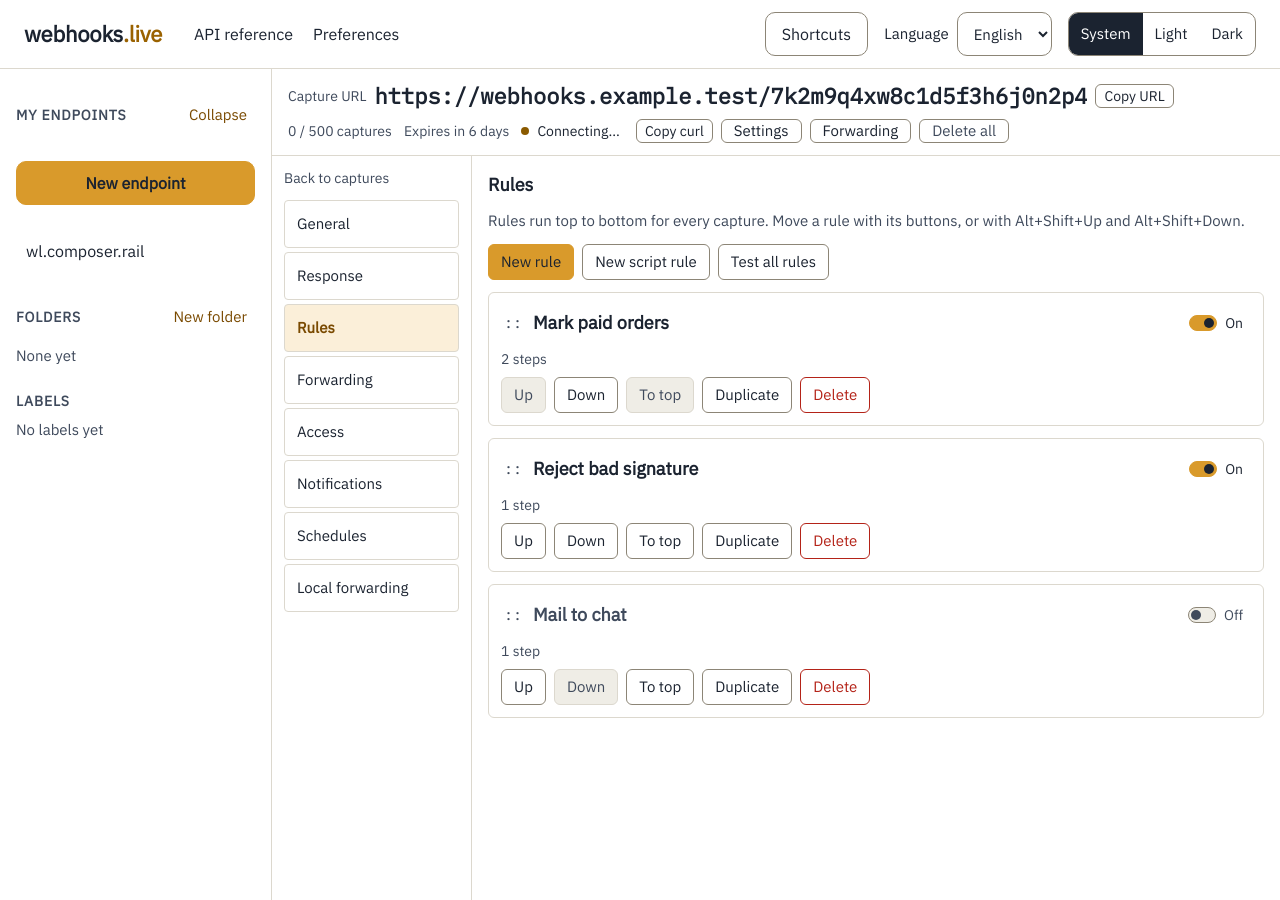
Test: rules section › opens a blank draft in the editor route
Click the link "New rule" at (531, 262), box left=488, top=244, right=574, bottom=280
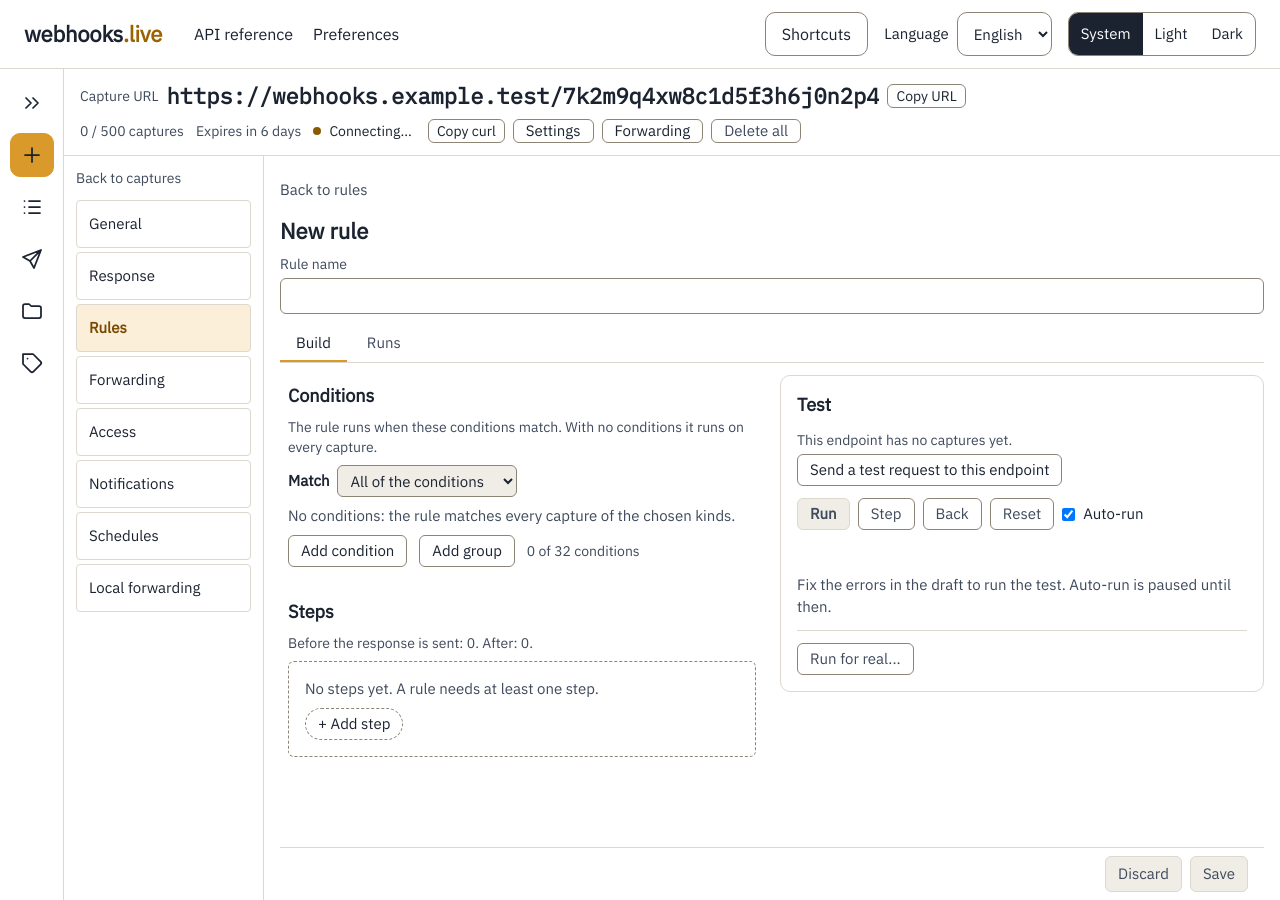
expect the heading "New rule" is shown: met, box left=280, top=216, right=368, bottom=245
expect the field labelled "Rule name" is shown: met, box left=280, top=278, right=1264, bottom=314
